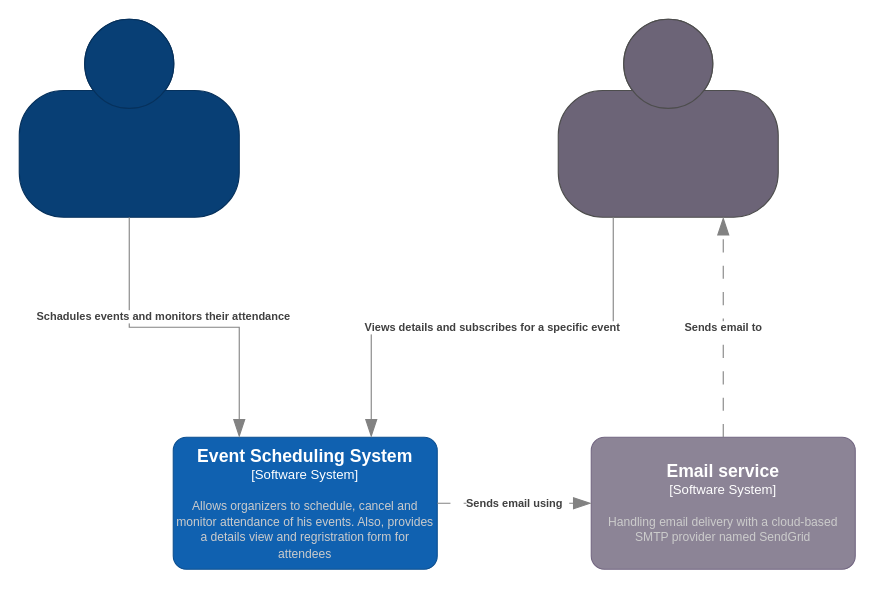
Some shapes in this 875 by 589 pixel diagram are drawn without their labels. Each missing label, with the centre of its shape:
"Attendee [Person] Unauthenticated user" belongs at [667,117].
"Organizer [Person] Authenticated user" belongs at [128,117].
